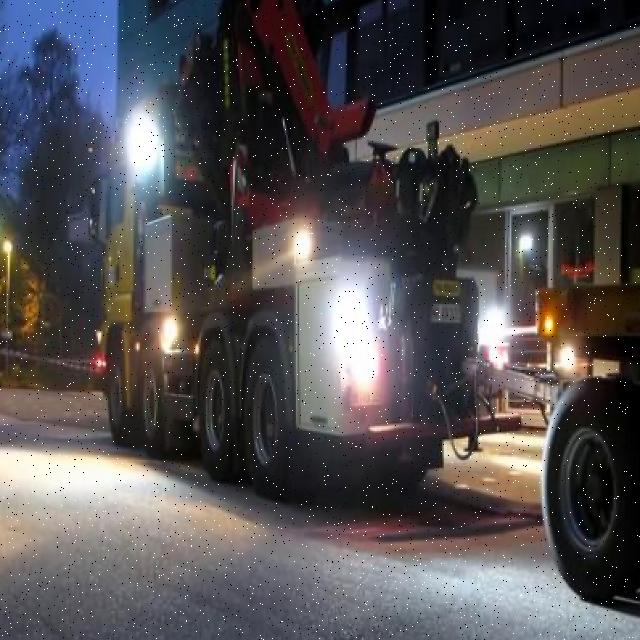Mobile Crane: (96, 0, 488, 502)
